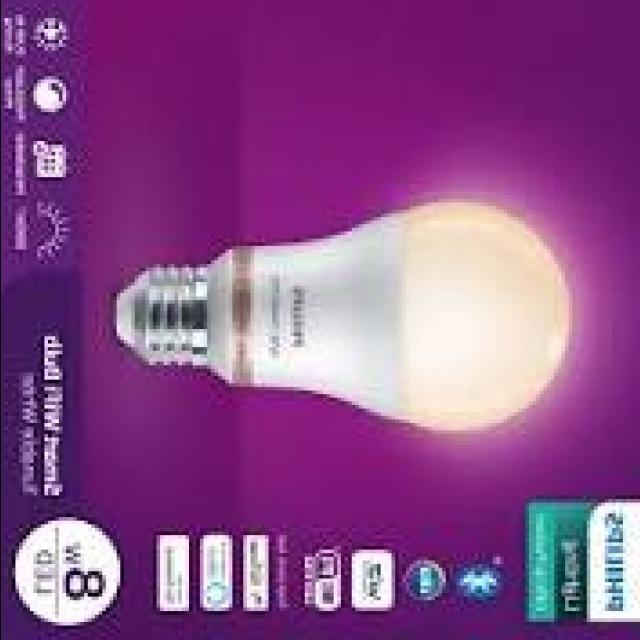light_bulb: (96, 176, 588, 444)
